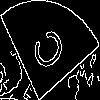C: (24, 25, 67, 80)
